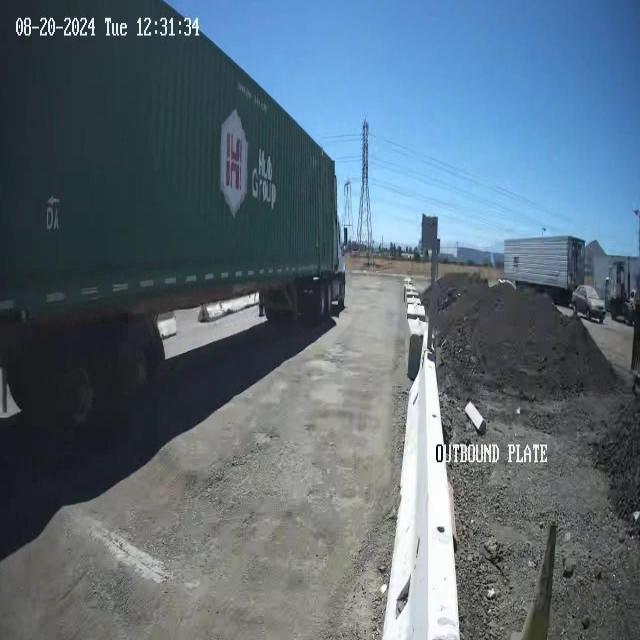TRUCK_IN: (1, 0, 347, 442)
